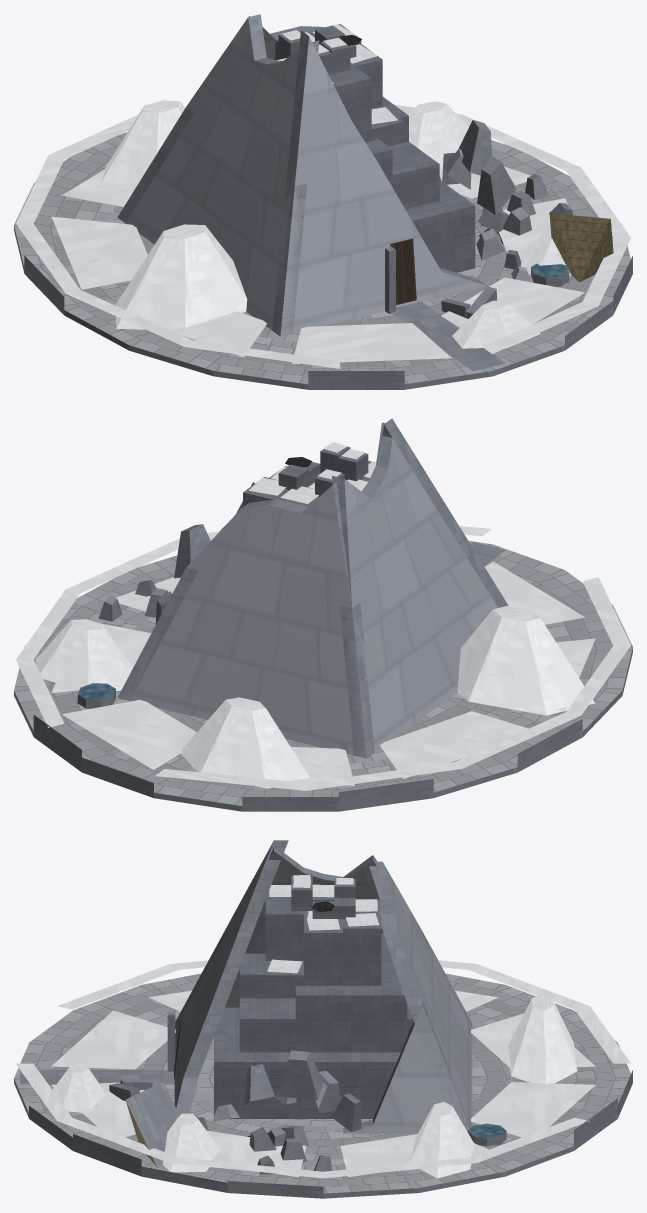
The model's file is pyramid_large_destroyed_lod1.glb.
The picture shows the model from 3 angles, top to bottom: view 1: azimuth 30°, elevation 25°; view 2: azimuth 150°, elevation 25°; view 3: azimuth 270°, elevation 25°; orthographic projection. The views are drawn at different scales.
Parts seen in each view (by area): view 1: pyramid_large_destroyed_lod1; view 2: pyramid_large_destroyed_lod1; view 3: pyramid_large_destroyed_lod1.
Boxes of the visible parts, x1=… form: pyramid_large_destroyed_lod1: x1=14, y1=14, x2=632, y2=389; pyramid_large_destroyed_lod1: x1=14, y1=418, x2=632, y2=811; pyramid_large_destroyed_lod1: x1=14, y1=840, x2=632, y2=1198.
Size of the model in its own units: 1.68 by 0.7717 by 1.9.
1 material, 1 textured.
